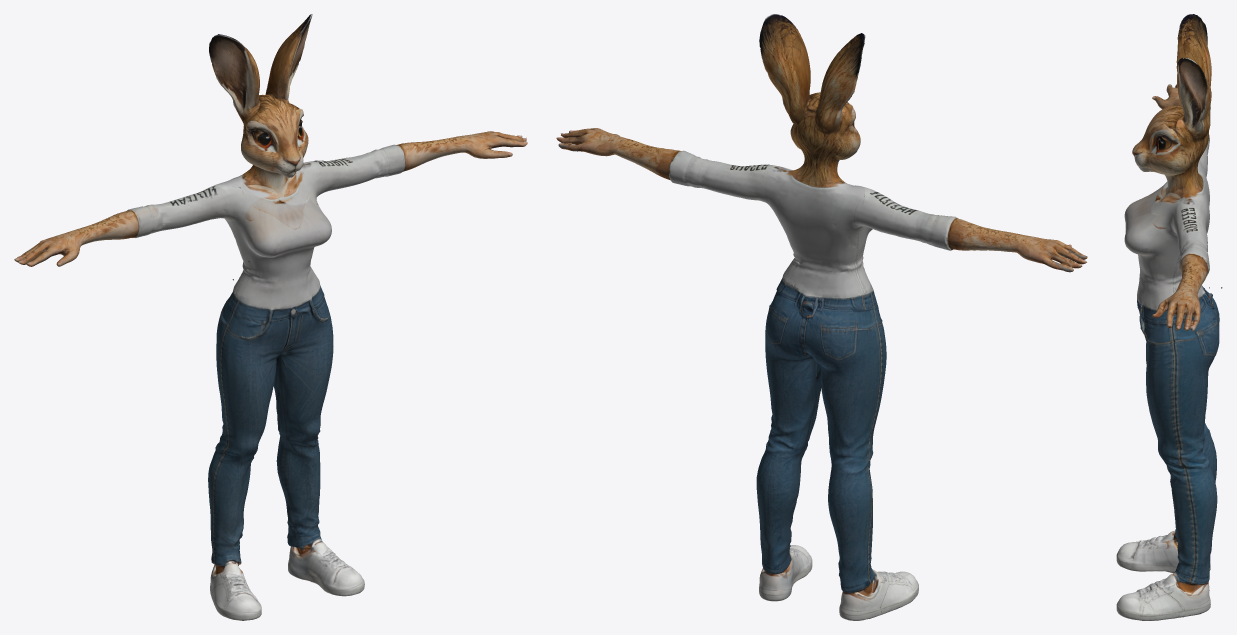
File: 02_Hare.fbx
3 renders of one model, left to right at view 1: azimuth 30°, elevation 25°; view 2: azimuth 150°, elevation 25°; view 3: azimuth 270°, elevation 25°, orthographic. The views are drawn at different scales.
Parts seen in each view (by area): view 1: texture_mapping; view 2: texture_mapping; view 3: texture_mapping.
Boxes of the visible parts, bbox=[...] form: texture_mapping: bbox=[14, 14, 527, 620]; texture_mapping: bbox=[556, 14, 1087, 620]; texture_mapping: bbox=[1116, 14, 1222, 620].
Bounding box in the file's own units: 0.9505 × 1 × 0.1735.
Materials: 1 (1 with a texture image).
